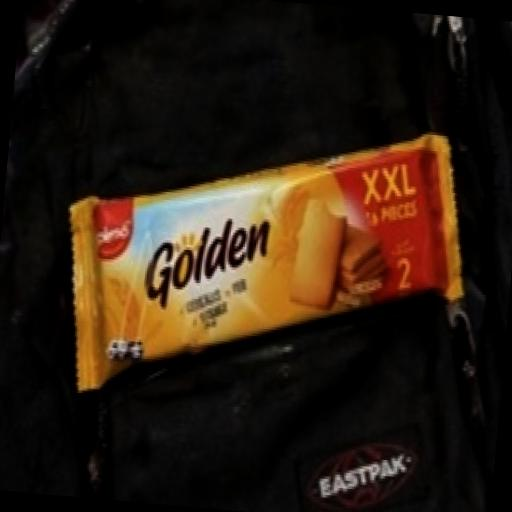golden: (40, 84, 490, 402)
